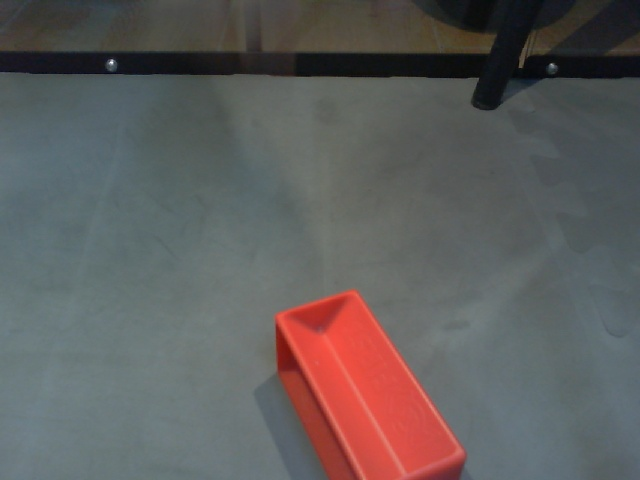RedSample: (269, 287, 468, 480)
